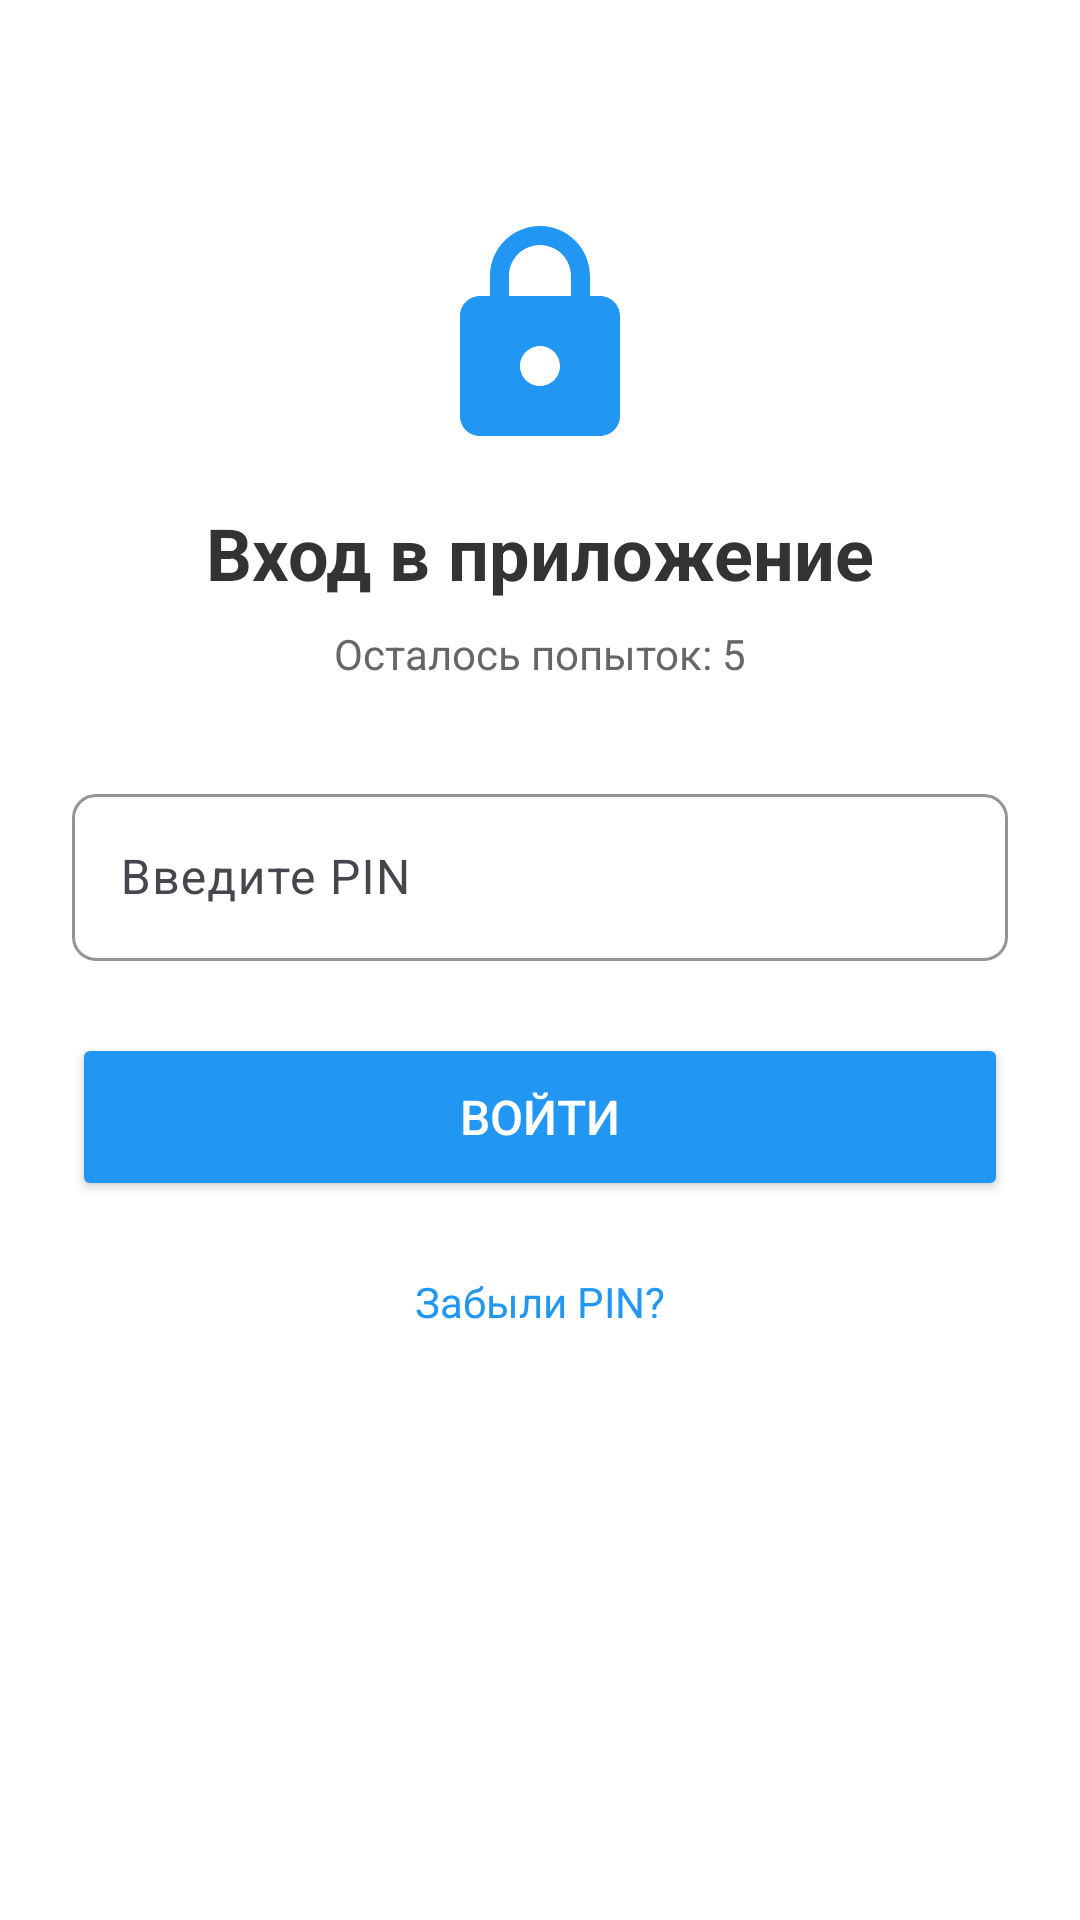

Icons on this 1080*1920 Android screen, each with its box as (x1, y1, x2, y2):
Lock Icon: (460, 226, 620, 436)
